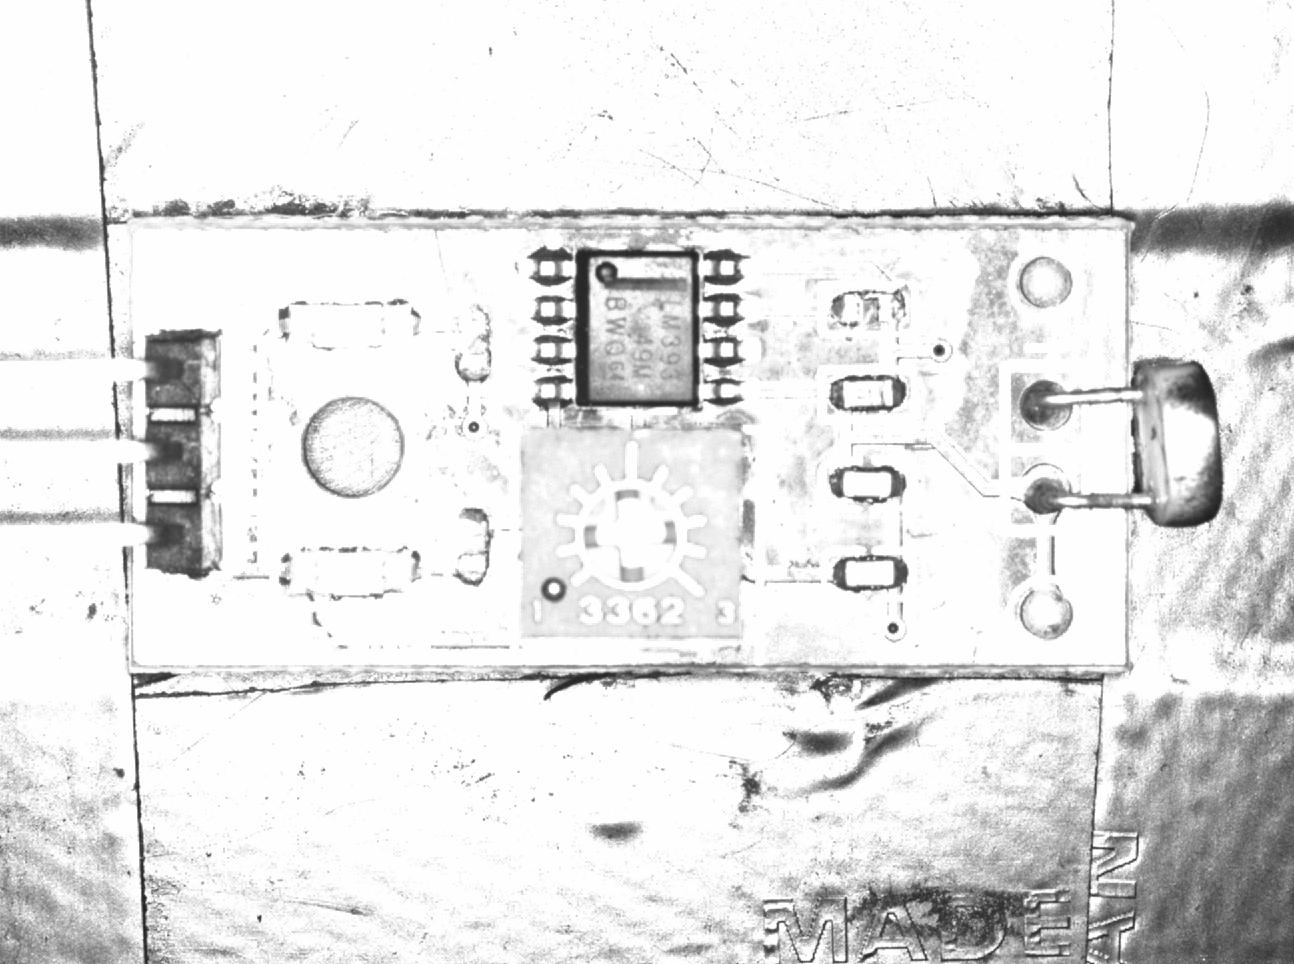miss: (440, 494, 496, 595), (444, 295, 501, 393), (814, 283, 916, 335)
ok: (820, 366, 916, 419), (823, 548, 916, 600), (821, 456, 911, 509)
